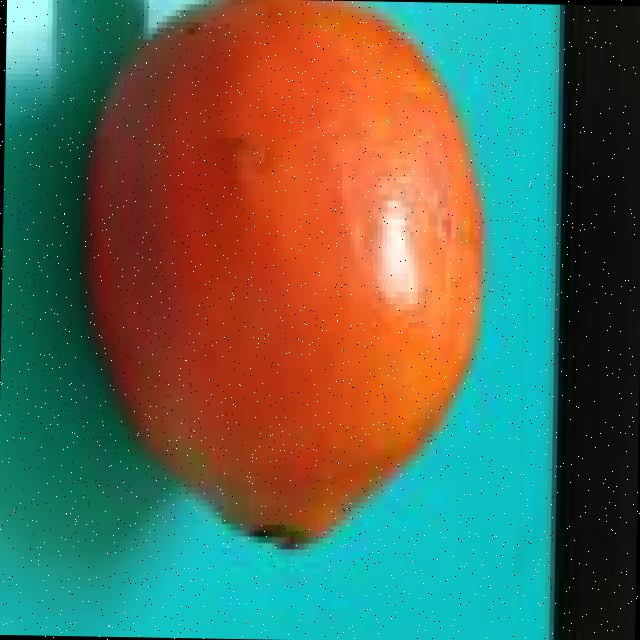Good_Pomegranate-50-60-days: (78, 0, 482, 555)
